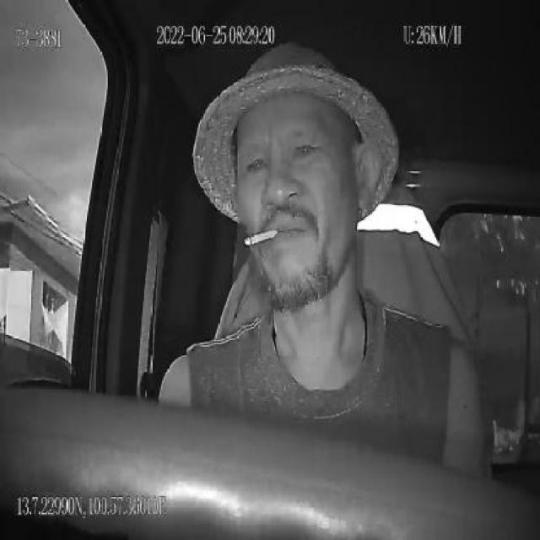smoking: (244, 227, 279, 250)
